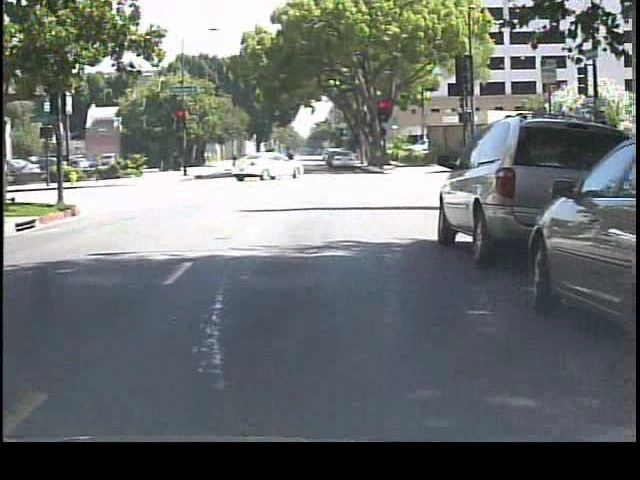person: (283, 141, 299, 176)
